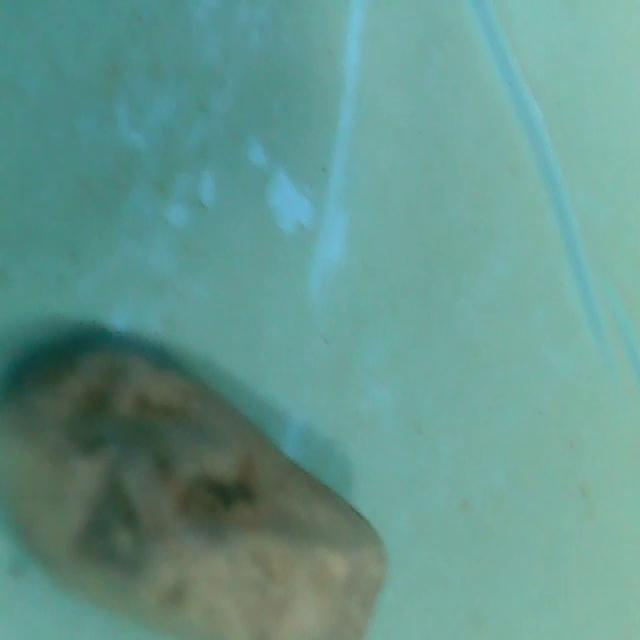rock: (0, 340, 397, 640)
